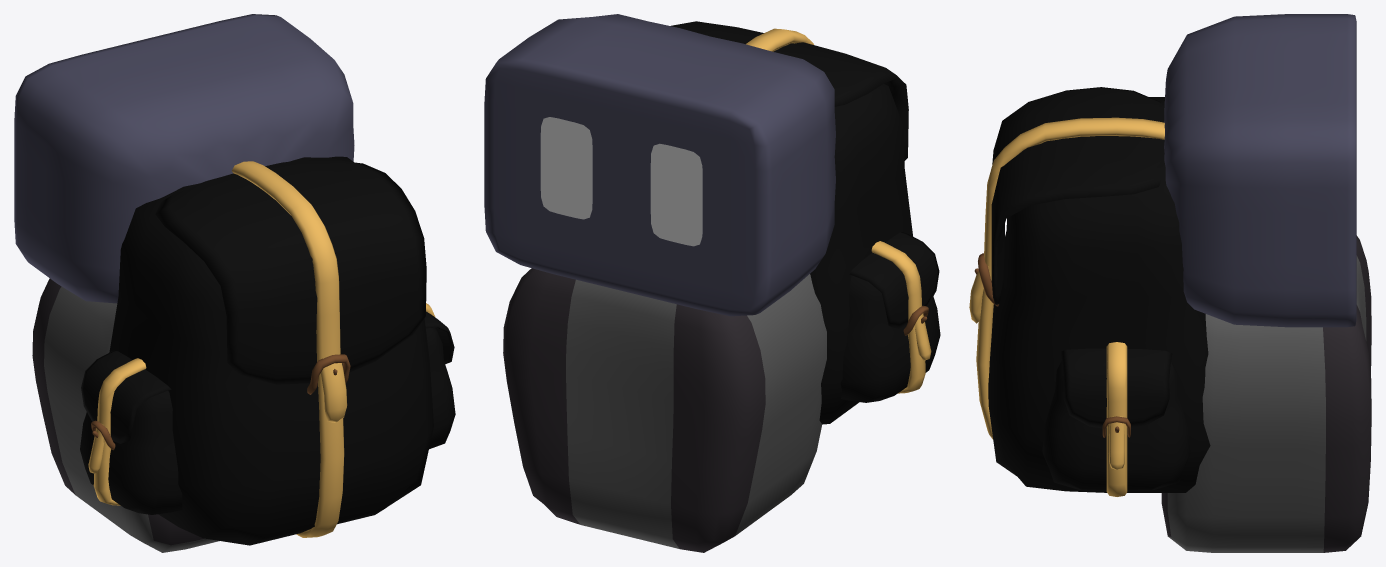
Rendered from EVE Robot Jelmer edition.fbx.
The picture shows the model from 3 angles, left to right: view 1: azimuth 30°, elevation 25°; view 2: azimuth 150°, elevation 25°; view 3: azimuth 270°, elevation 25°; orthographic projection. The views are drawn at different scales.
Visible parts, largest first — view 1: Backpack, Head, Body; view 2: Head, Body, Backpack, Eyes; view 3: Backpack, Head, Body.
Part boxes in pixels (x1,y1,x2,y2): Backpack: [80, 156, 455, 545]; Head: [14, 14, 354, 303]; Body: [32, 278, 219, 552]; Head: [484, 14, 835, 316]; Body: [503, 268, 826, 552]; Backpack: [671, 21, 940, 424]; Eyes: [540, 117, 702, 246]; Backpack: [969, 87, 1210, 496]; Head: [1164, 14, 1356, 327]; Body: [1161, 235, 1371, 552].
Size of the model in its own units: 103 by 123 by 98.93.
